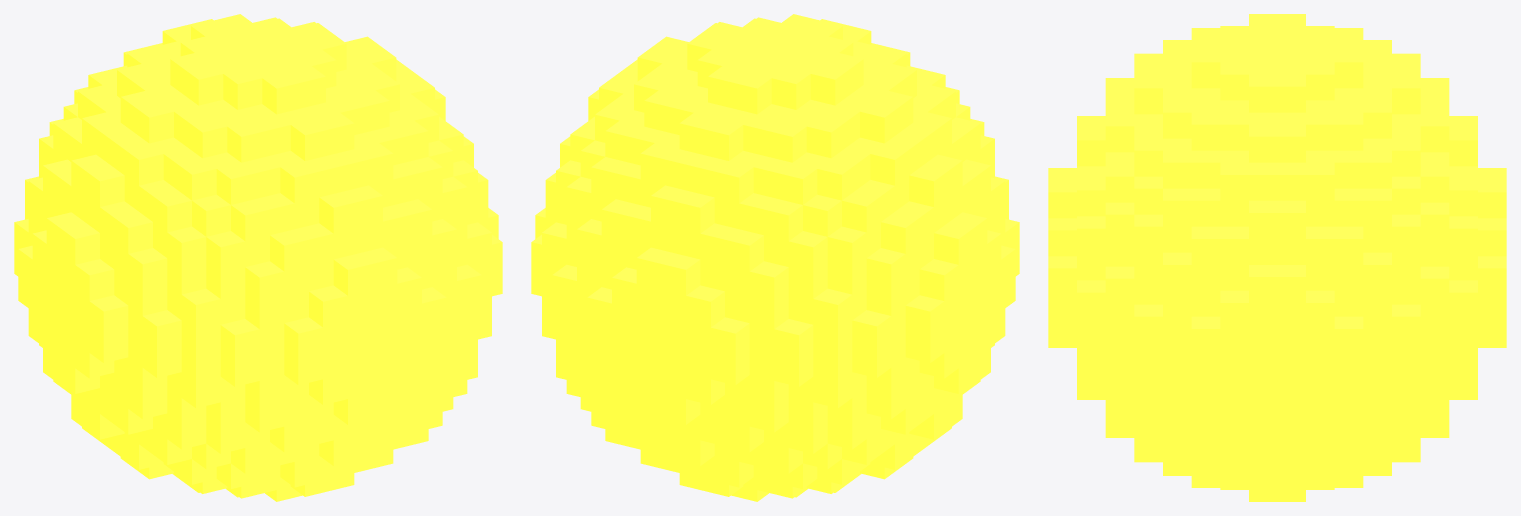
Rendered from Sun.fbx.
3 renders of one model, left to right at view 1: azimuth 30°, elevation 25°; view 2: azimuth 150°, elevation 25°; view 3: azimuth 270°, elevation 25°, orthographic.
Visible parts, largest first — view 1: Sun; view 2: Sun; view 3: Sun.
Boxes of the visible parts, left/top/right/bottom form: Sun: left=14, top=14, right=502, bottom=501; Sun: left=531, top=14, right=1019, bottom=501; Sun: left=1048, top=14, right=1506, bottom=501.
Bounding box in the file's own units: 3200 × 3200 × 3200.
